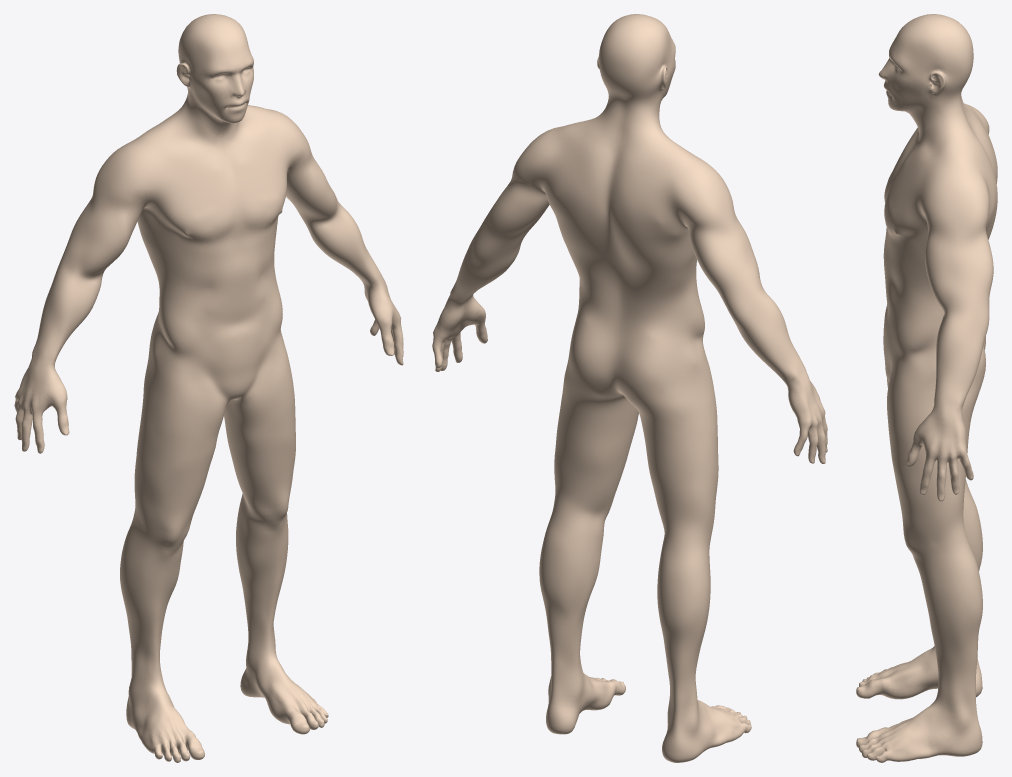
The model's file is FinalBaseMesh.obj.
3 views of the same model, side by side, from view 1: azimuth 30°, elevation 25°; view 2: azimuth 150°, elevation 25°; view 3: azimuth 270°, elevation 25° (orthographic).
Parts seen in each view (by area): view 1: Group1; view 2: Group1; view 3: Group1.
Part boxes in pixels (<box>): Group1: <box>14,14,403,762</box>; Group1: <box>432,14,827,762</box>; Group1: <box>856,14,997,762</box>.
Size of the model in its own units: 11.69 by 20.74 by 3.77.
